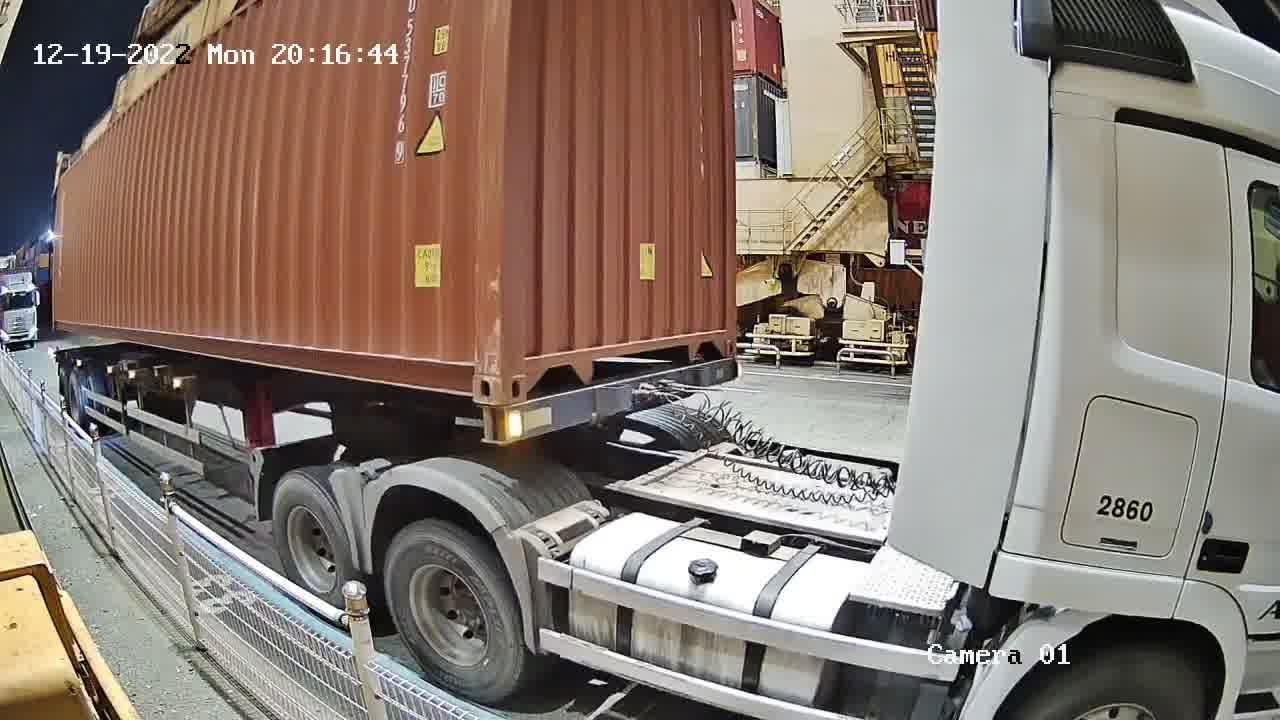Chassis: (477, 357, 738, 442)
Cone: (475, 404, 501, 441)
Hole_L: (501, 344, 557, 406)
Hole_R: (441, 344, 501, 407), (697, 313, 737, 359)
Tire: (391, 519, 521, 699), (273, 475, 351, 603)
